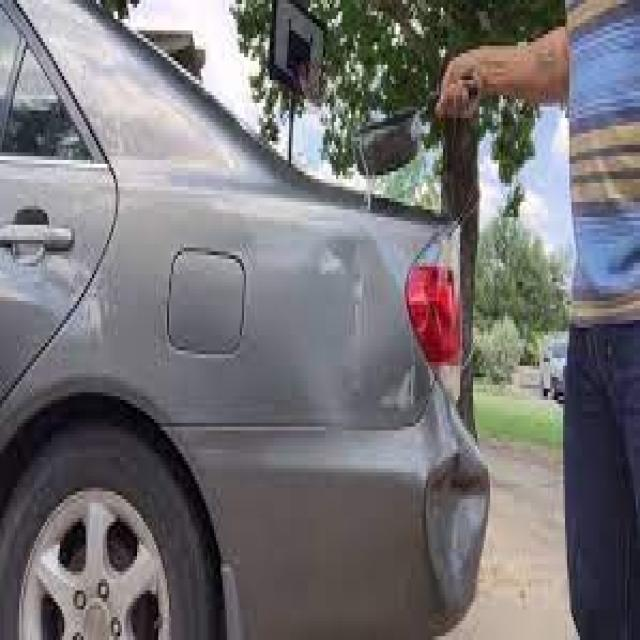Dent: (313, 244, 393, 390), (423, 470, 486, 606)
